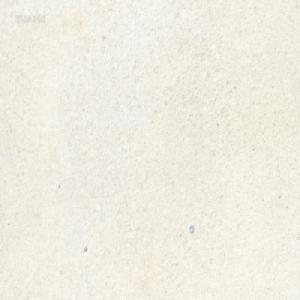Washer: (189, 224, 194, 233)
